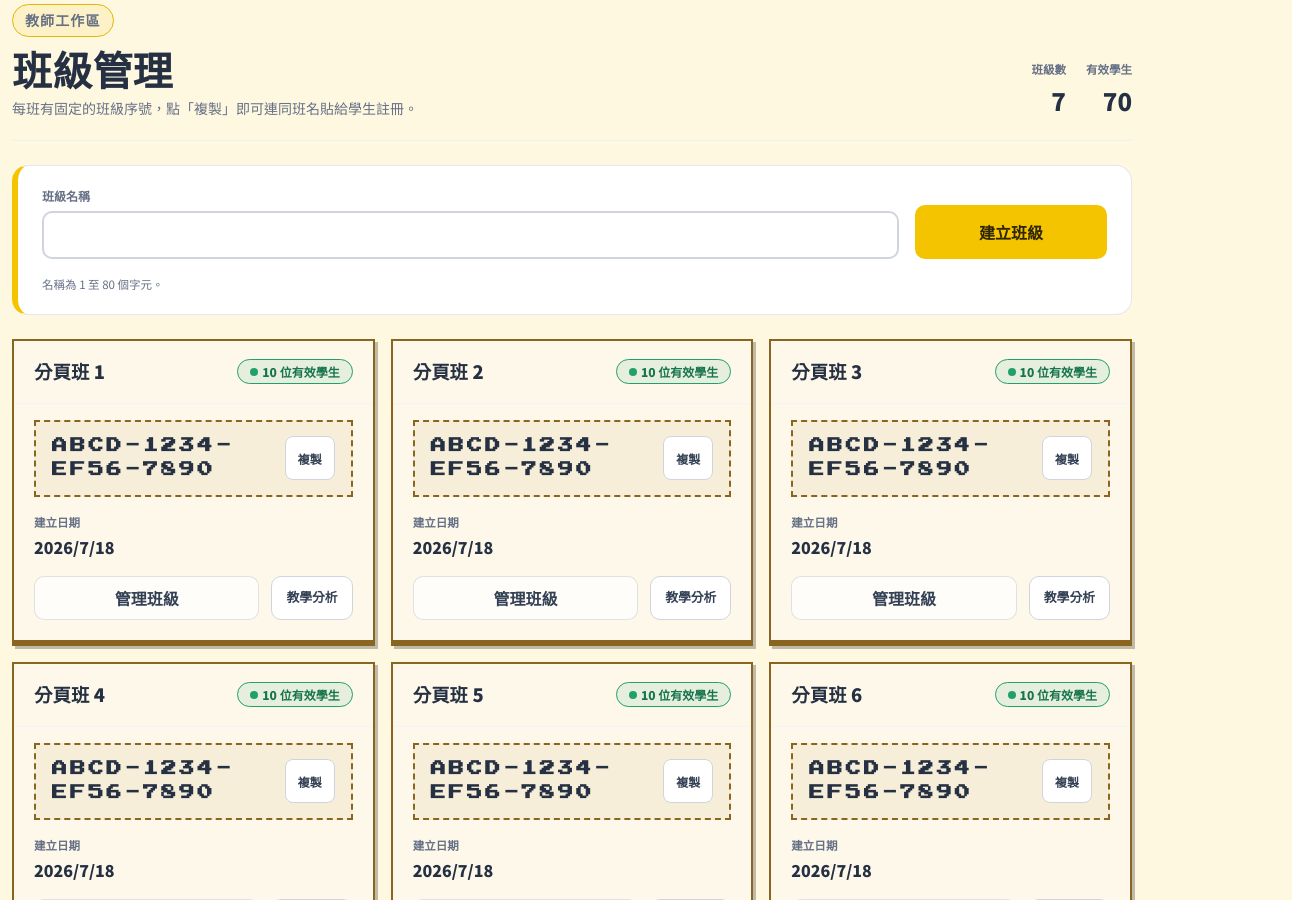
Scenario: TeacherClassroomsPage › 7 班溢出情境下建立第 8 班後，新卡片所在的末頁自動可見
Expected: the heading "班級管理" is shown, [12,40,173,98]
Step 1. Type "分頁班 8" into the field labelled "班級名稱" → (470, 235), box [42,211,899,259]
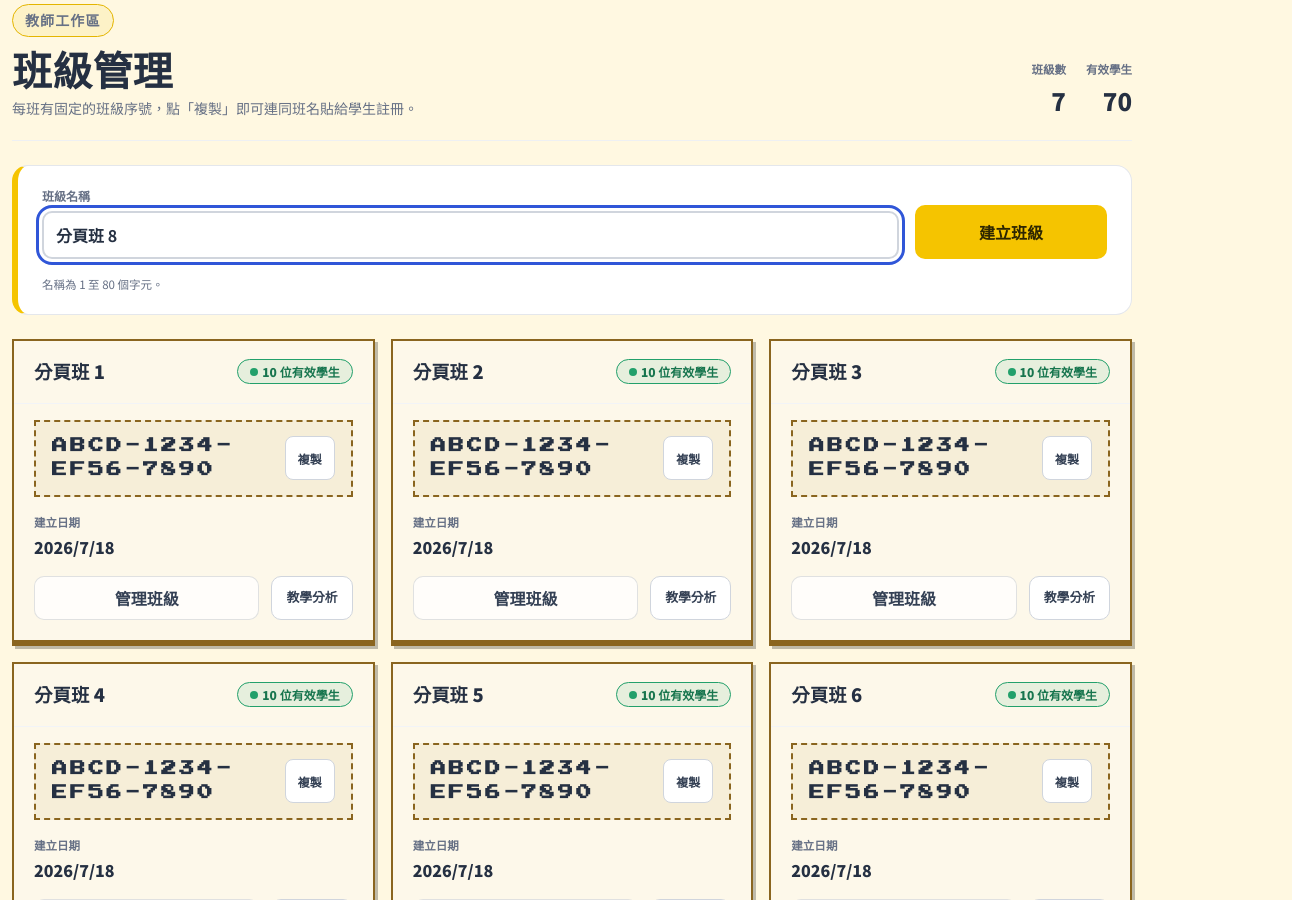
Step 2. Click the button "建立班級" → click(1011, 232), box [915,205,1107,259]
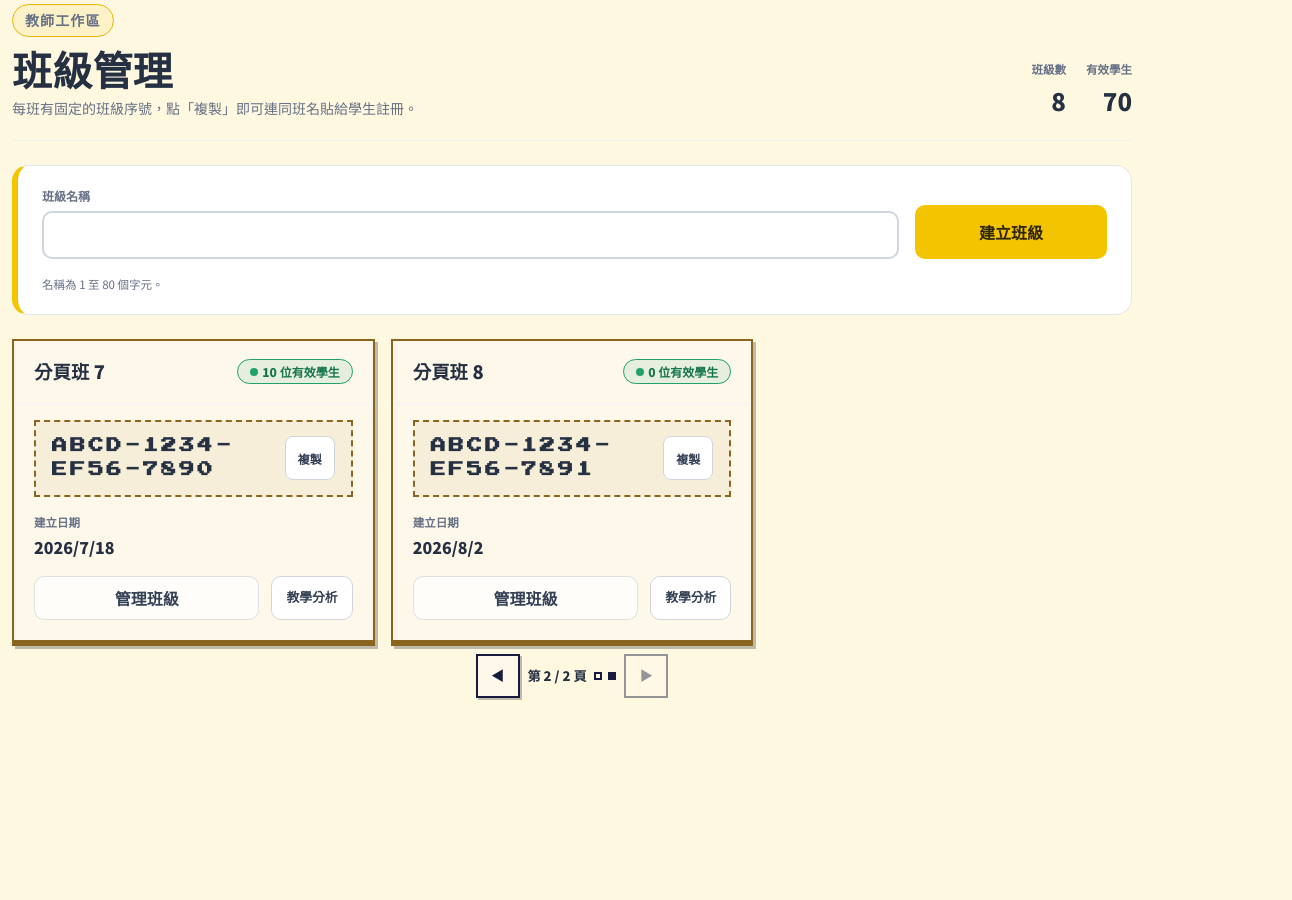
Expected: the heading "分頁班 8" is shown, [413,357,484,387]
Expected: the text "第 2 / 2 頁" is shown, [528,665,586,686]
